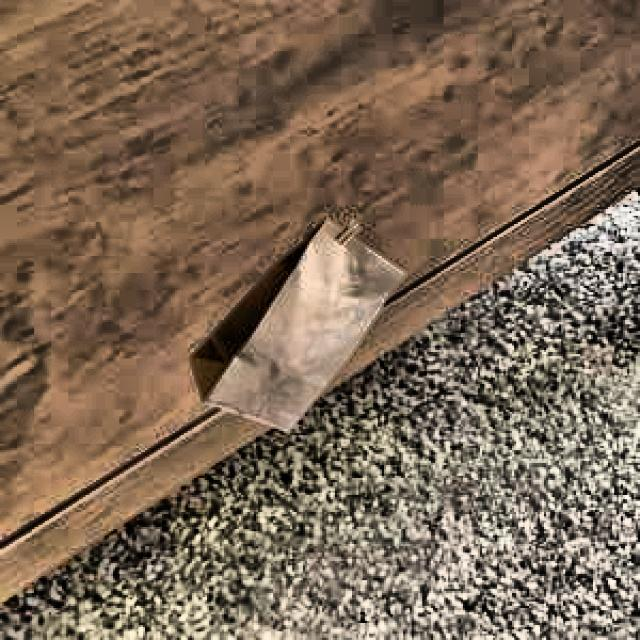Paper-bag: (178, 204, 414, 457)
